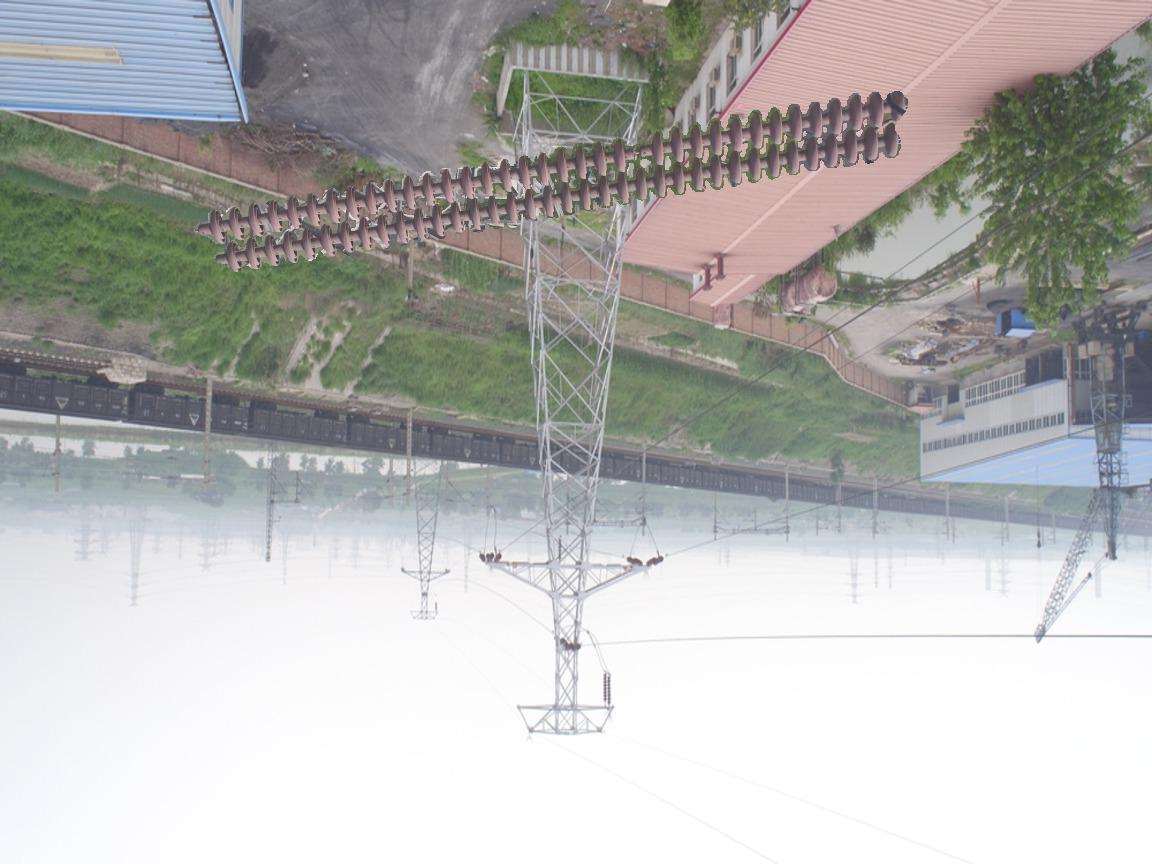insulator: (200, 85, 912, 275)
insulator_stringdrop: (611, 131, 666, 176)
